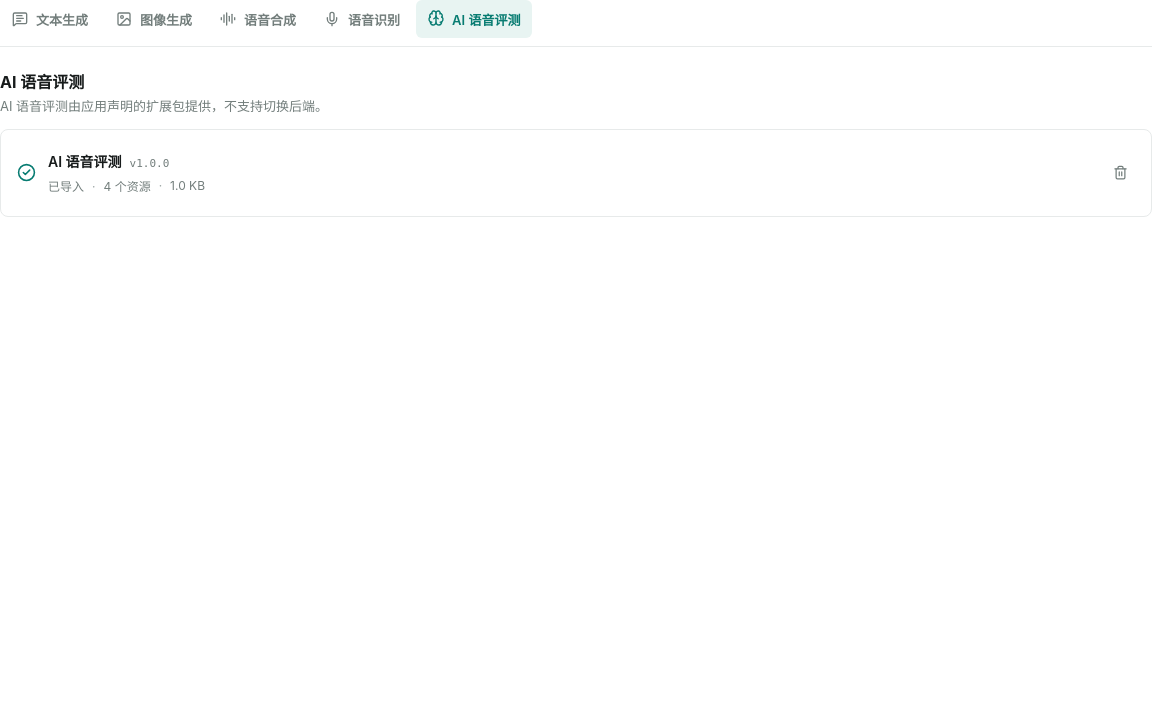
Test: AIRouterSettingsPage › deletes an imported pronunciation assessment extension after confirmation
Step 1. Click the button named "删除扩展包 AI 语音评测" → [1120, 173], box x1=1105 y1=158 x2=1135 y2=188
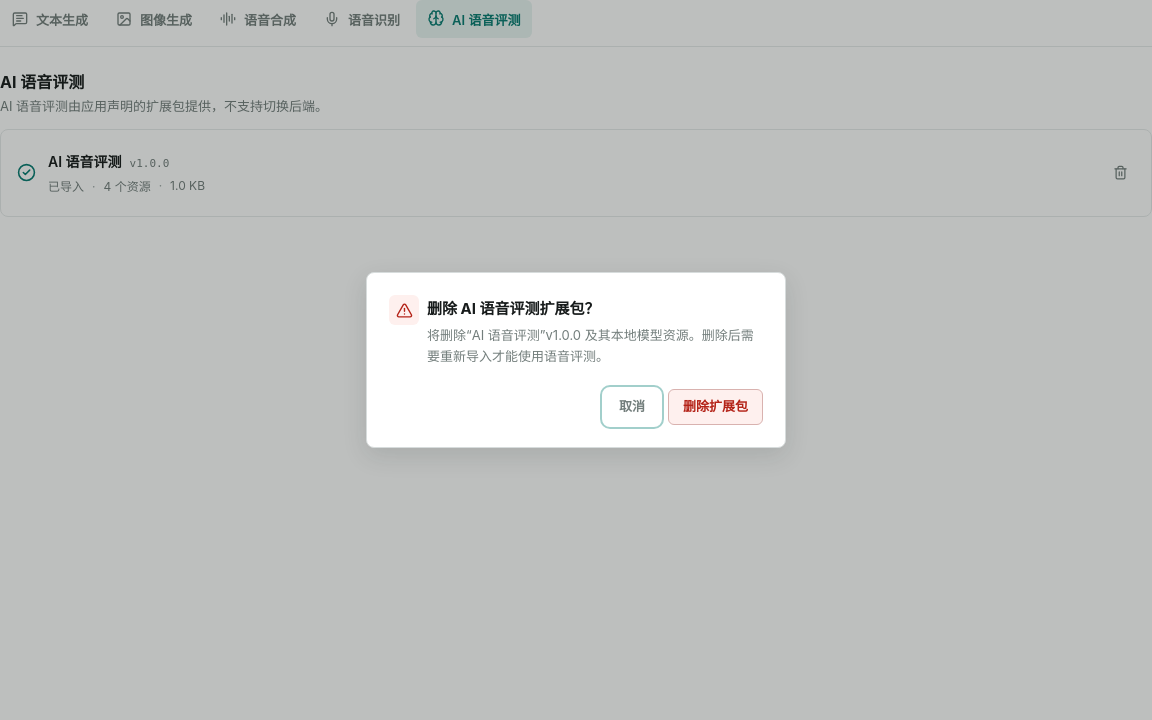
Step 2. Click the button "删除扩展包" → [716, 407], box x1=668 y1=389 x2=763 y2=425
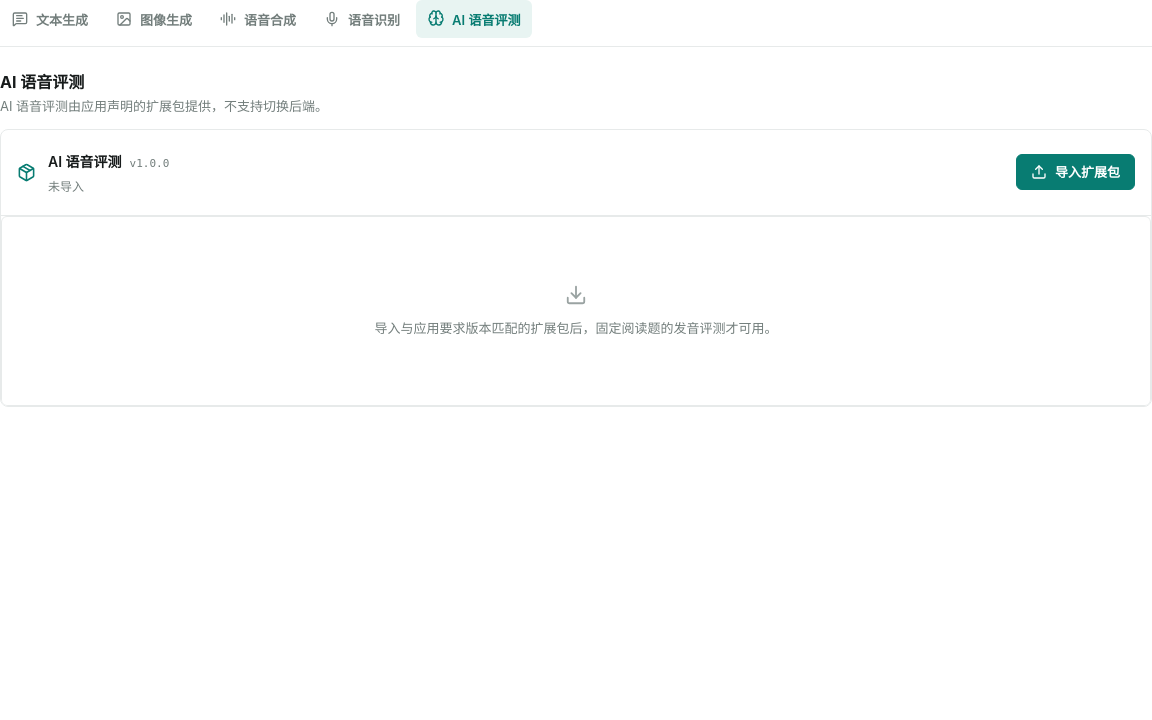
Check: the text "未导入" is shown, box x1=48 y1=177 x2=84 y2=194
Check: the dialog is gone
